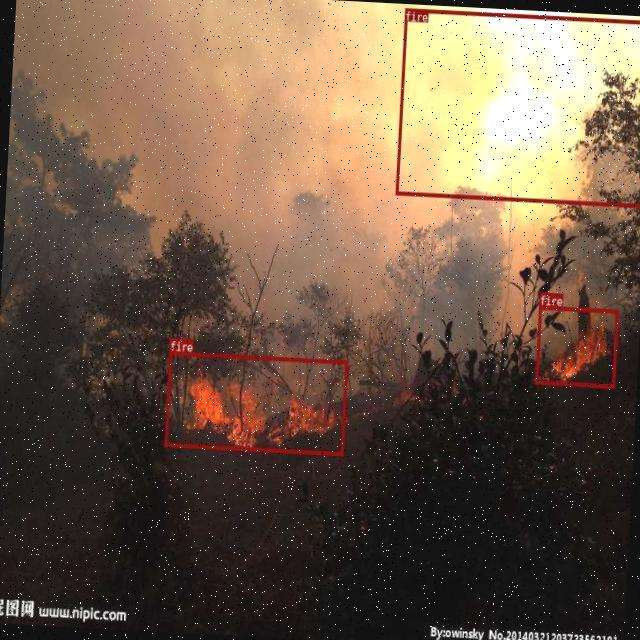fire: (395, 8, 640, 207), (164, 350, 348, 454), (534, 306, 618, 388)
